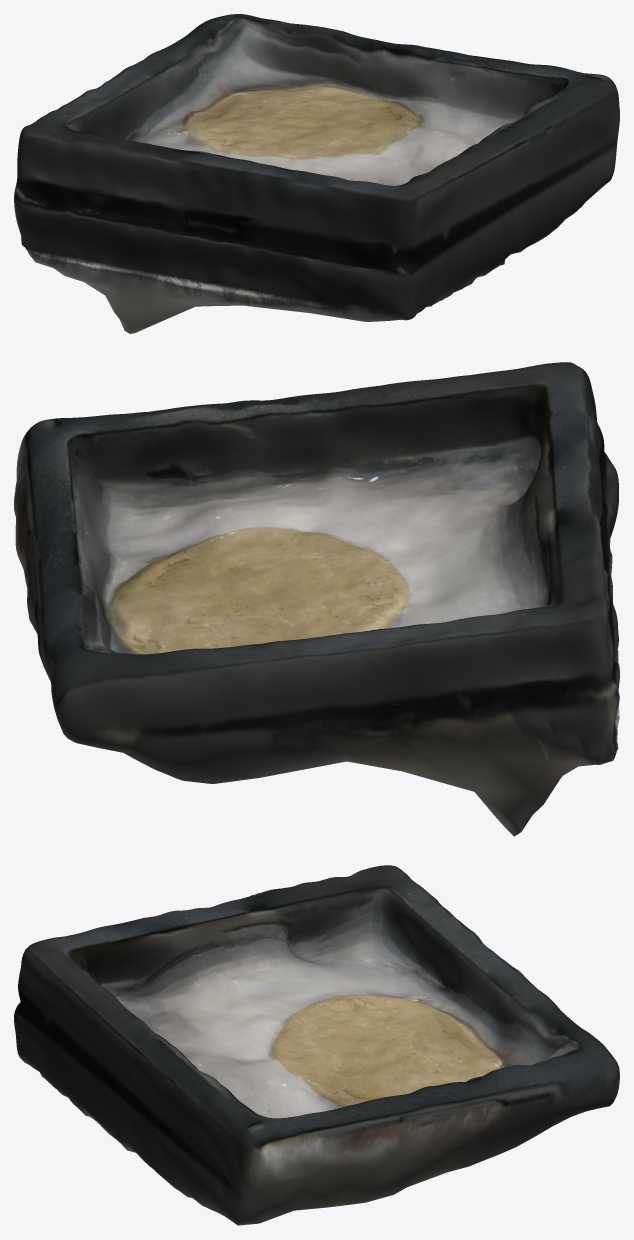
3 views of the same model, one above another, from view 1: azimuth 30°, elevation 25°; view 2: azimuth 150°, elevation 25°; view 3: azimuth 270°, elevation 25° (orthographic). The views are drawn at different scales.
Bounding box in the file's own units: 0.9436 × 0.3807 × 0.9353.
1 material, 1 textured.
